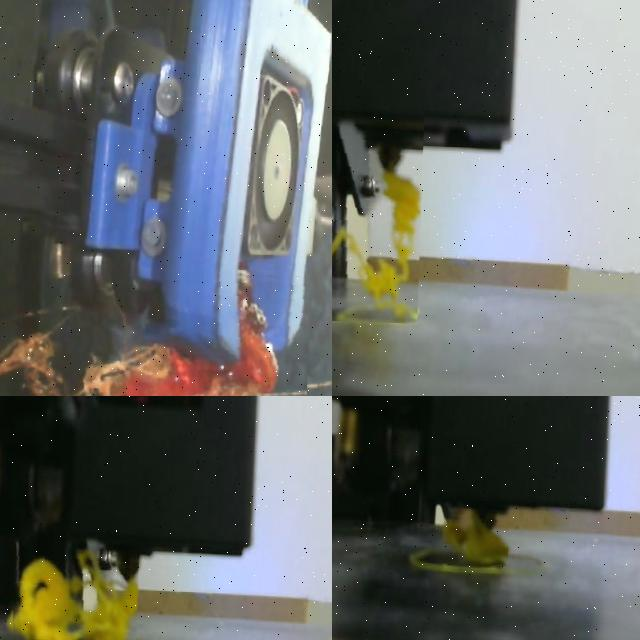spaghetti: (0, 274, 277, 396), (332, 170, 418, 323), (12, 551, 137, 640), (445, 510, 508, 565)
